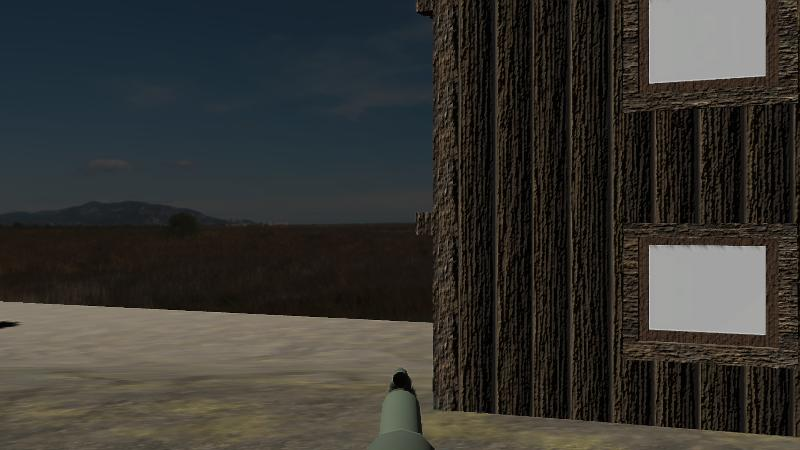House: (426, 0, 800, 446)
